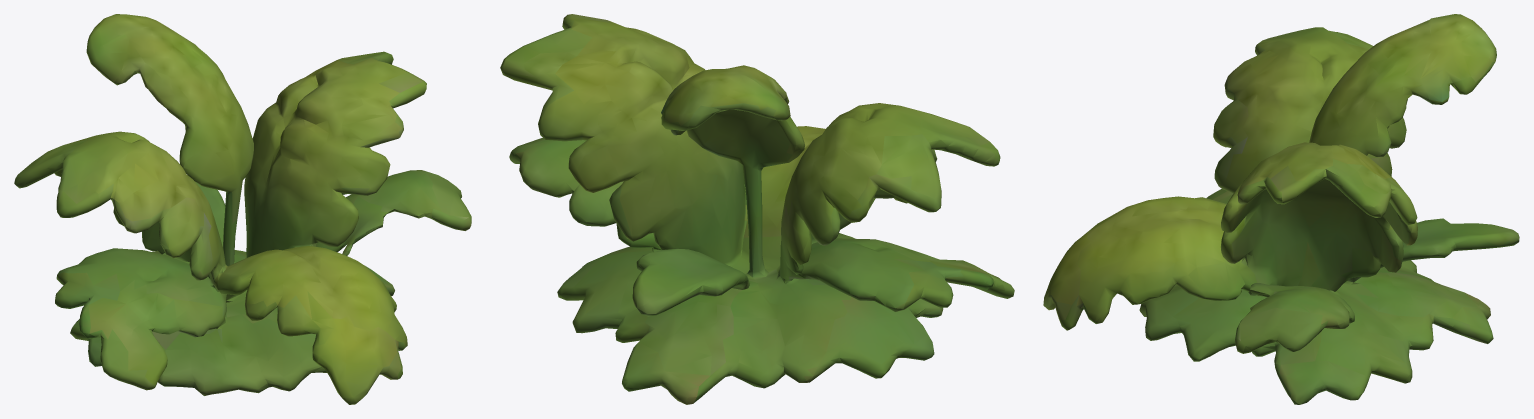
File: helecho_ancho.glb
3 renders of one model, left to right at view 1: azimuth 30°, elevation 25°; view 2: azimuth 150°, elevation 25°; view 3: azimuth 270°, elevation 25°, orthographic. The views are drawn at different scales.
Parts seen in each view (by area): view 1: helecho_ancho_malla; view 2: helecho_ancho_malla; view 3: helecho_ancho_malla.
Part boxes in pixels (x1,y1,x2,y2): helecho_ancho_malla: (14, 14, 471, 404); helecho_ancho_malla: (500, 14, 1014, 404); helecho_ancho_malla: (1043, 14, 1519, 404).
Bounding box in the file's own units: 0.1382 × 0.0878 × 0.1312.
Materials: 1 (1 with a texture image).
